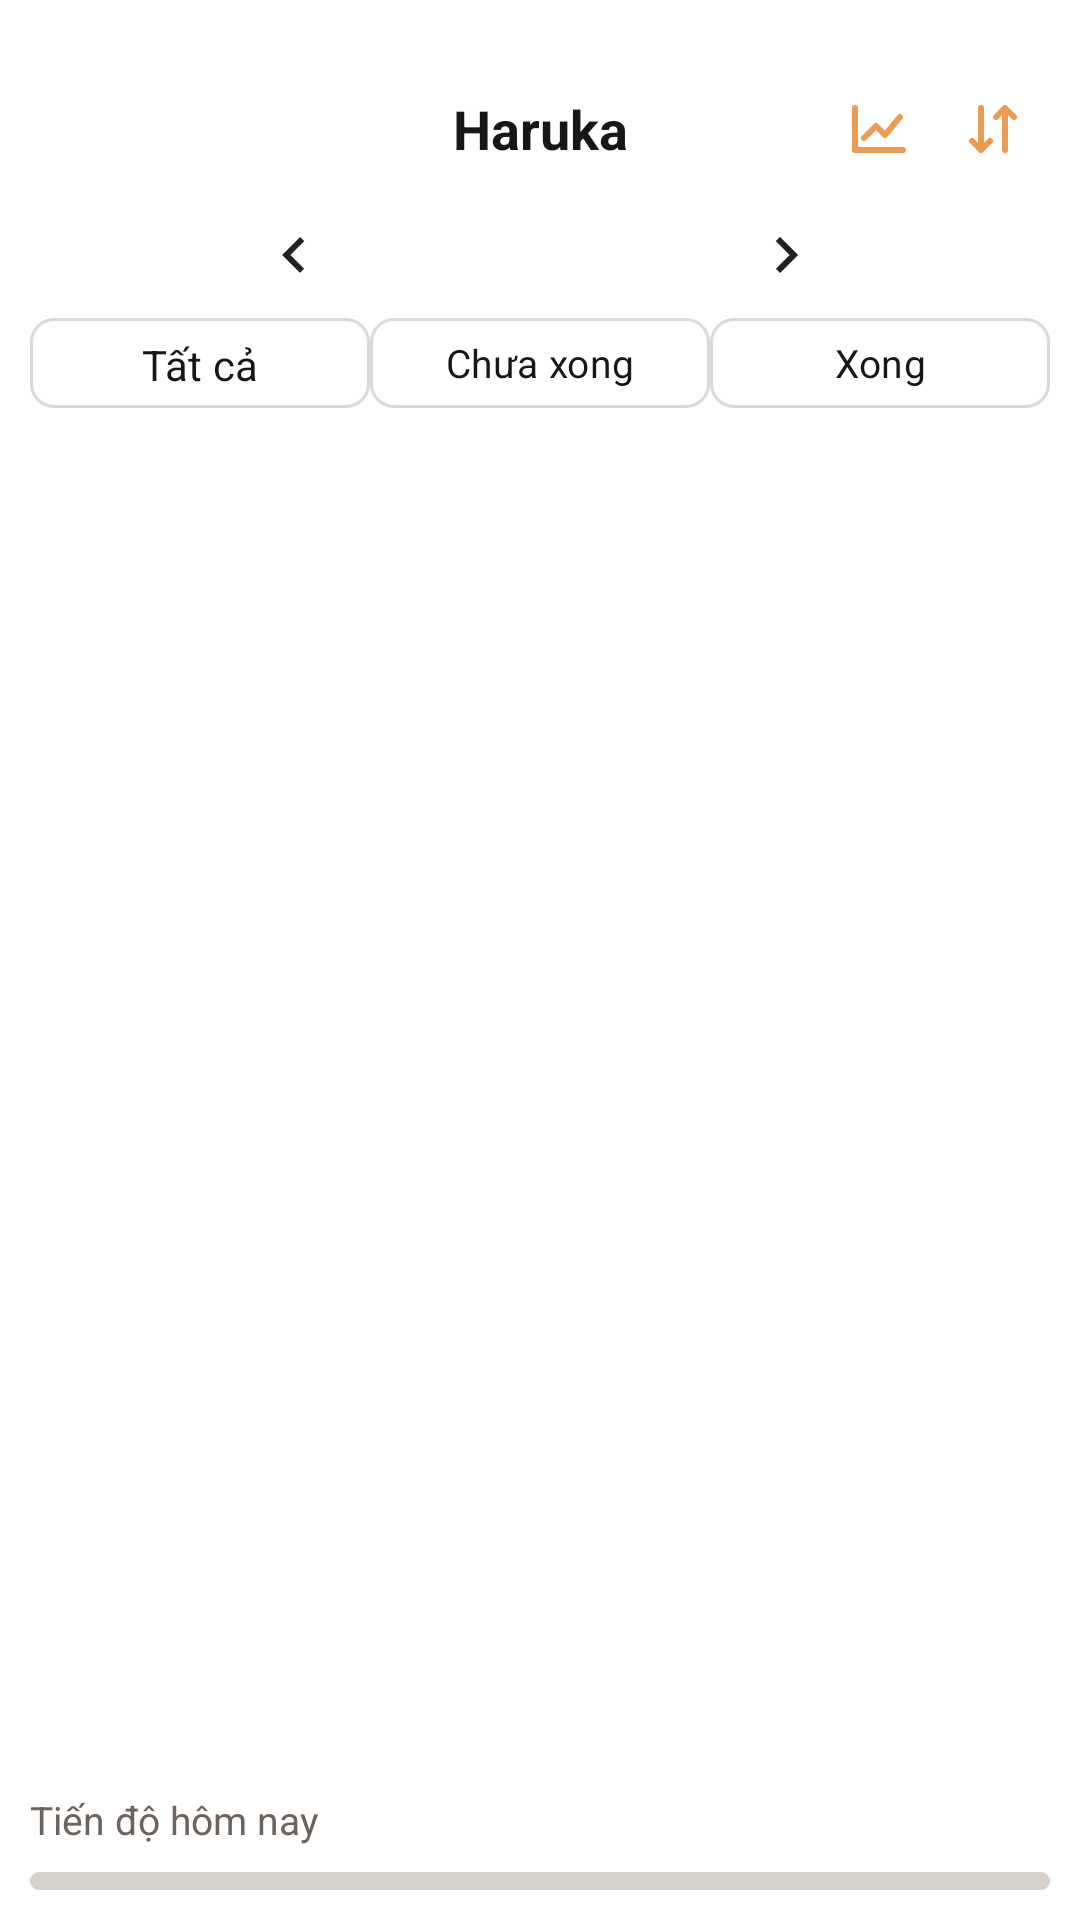

Icons on this 1080 x 1920 Android screen, each with the point to tap as point (x, y):
Báo cáo phân tích: point (879, 129)
Sau: point (787, 255)
Sắp xếp thói quen: point (993, 129)
Trước: point (293, 255)
